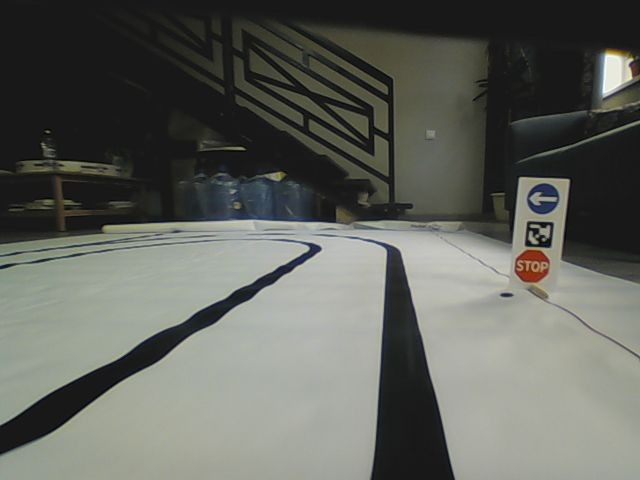Stop: (511, 248, 551, 287)
